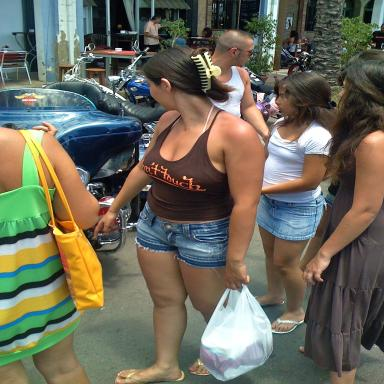plasticbag: (201, 283, 271, 380)
